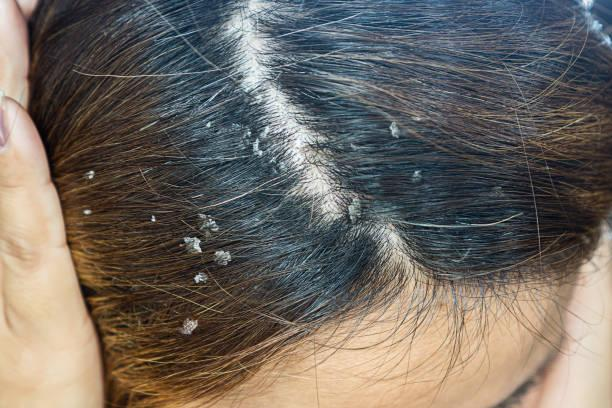dandruff: (169, 226, 259, 288), (236, 119, 281, 166), (331, 187, 369, 225), (388, 113, 411, 147), (175, 316, 212, 336), (75, 167, 104, 188)
